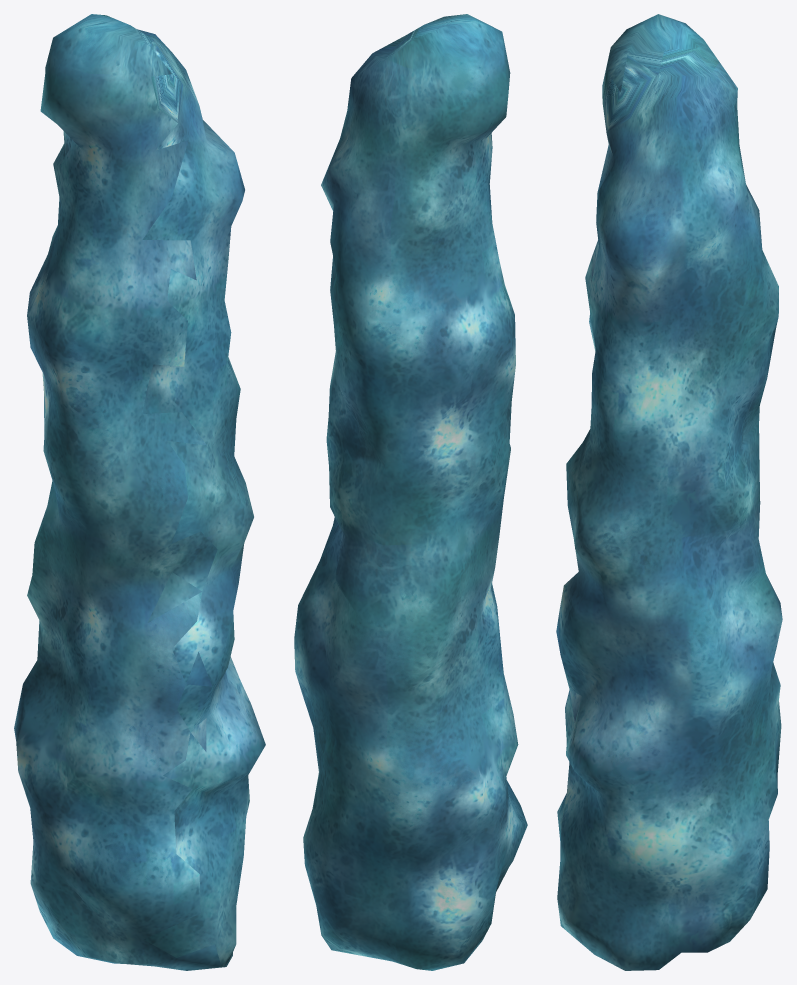
3 views of the same model, side by side, from view 1: azimuth 30°, elevation 25°; view 2: azimuth 150°, elevation 25°; view 3: azimuth 270°, elevation 25° (orthographic). The views are drawn at different scales.
Parts seen in each view (by area): view 1: obj1; view 2: obj1; view 3: obj1.
Boxes of the visible parts, <box> form: obj1: <box>14,14,265,970</box>; obj1: <box>294,14,527,970</box>; obj1: <box>556,14,782,970</box>.
Bounding box in the file's own units: 120 × 561 × 127.
1 material, 1 textured.
